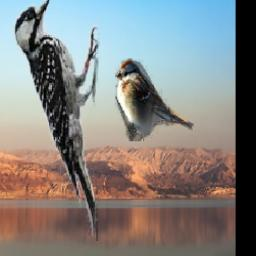Sparrow: (116, 58, 195, 141)
Woodpecker: (12, 0, 101, 241)
